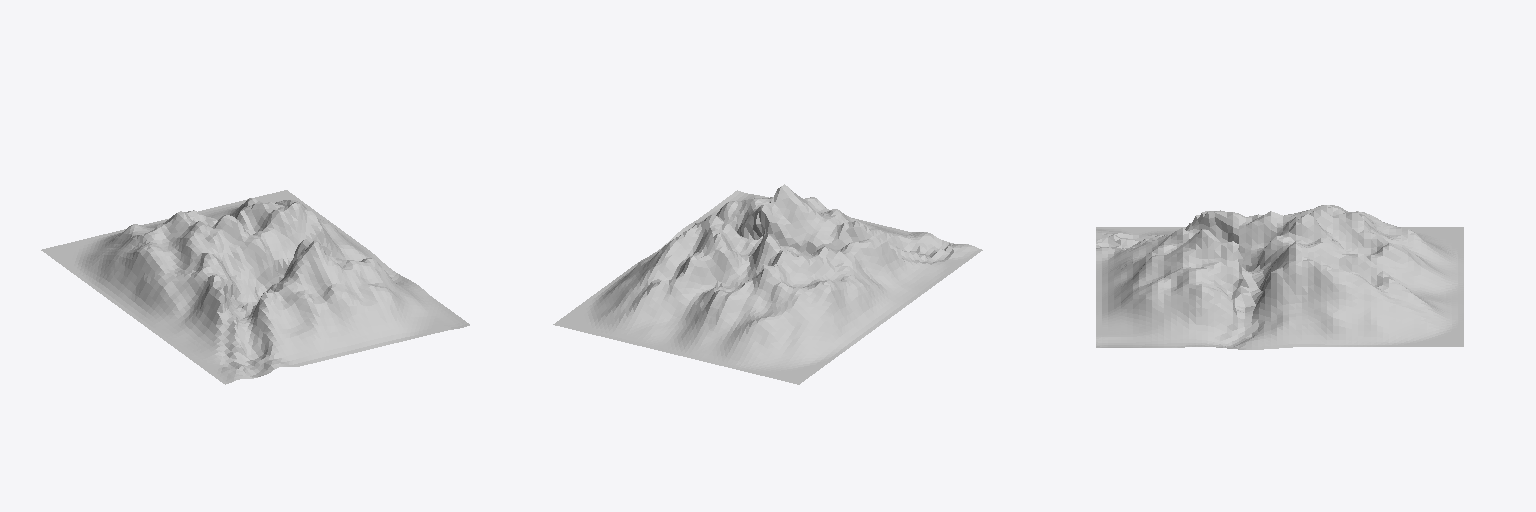
The model's file is mount.obj.
The picture shows the model from 3 angles: view 1: azimuth 30°, elevation 25°; view 2: azimuth 150°, elevation 25°; view 3: azimuth 270°, elevation 25°; orthographic projection.
Visible parts, largest first — view 1: Landscape; view 2: Landscape; view 3: Landscape.
Boxes of the visible parts, x1,y1,x2,y2 form: Landscape: [41, 190, 469, 384]; Landscape: [553, 184, 982, 384]; Landscape: [1096, 205, 1463, 349].
Size of the model in its own units: 9.65 by 2.81 by 12.51.